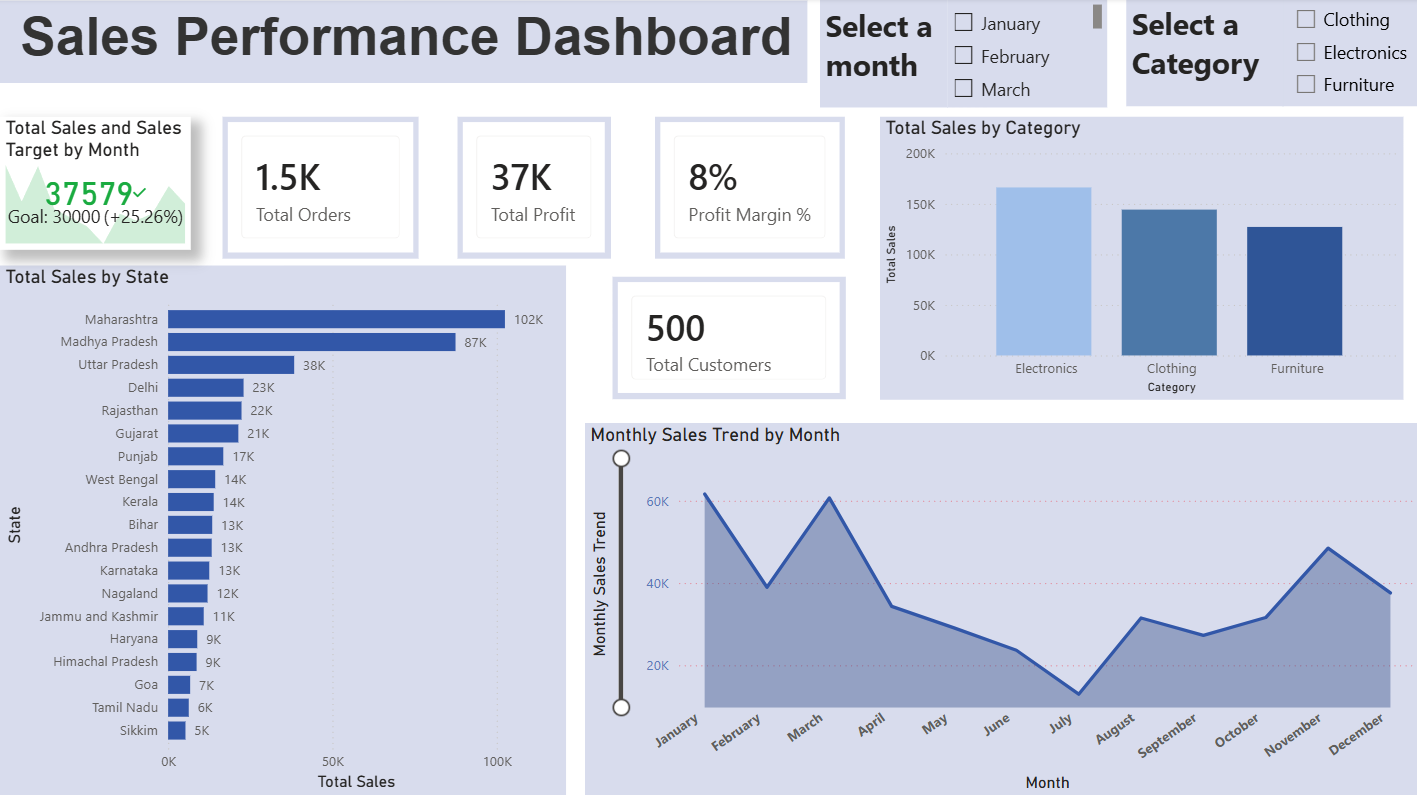

This screenshot's page, from the dashboard's own definition file:
{"tool":"powerbi","page":{"name":"Report","canvas":[1280,720],"ordinal":0},"visuals":[{"type":"barChart","fields":{"Y":["Orders.Total Sales"],"Category":["Orders.State"]},"box":[0,241.5,510.5,478.9],"z":0},{"type":"lineChart","fields":{"Category":["Orders.Order Date.Variation.Date Hierarchy.Month"],"Y":["Orders.Total Sales"]},"box":[526.9,382.8,753.3,337.6],"z":1000},{"type":"slicer","fields":{"Values":["Details.Category"]},"box":[1156.8,0,123.5,97.4],"z":2000},{"type":"textbox","box":[0,2,728,74],"z":3000},{"type":"textbox","box":[1015.4,0,141.3,97.4],"z":4000},{"type":"columnChart","fields":{"Category":["Details.Category"],"Y":["Orders.Total Sales"]},"box":[793.1,107,472,255.2],"z":5000},{"type":"kpi","fields":{"Indicator":["Orders.Total Sales"],"TrendLine":["Orders.Order Date.Variation.Date Hierarchy.Month"],"Goal":["Details.Sales Target"]},"box":[0,107,172.1,119.8],"z":6000},{"type":"cardVisual","fields":{"Data":["Sum(Details.Profit)"]},"box":[413,107,138.6,127.6],"z":7000},{"type":"cardVisual","fields":{"Data":["CountNonNull(Details.Order ID)"]},"box":[200.3,107,177,127.6],"z":8000},{"type":"cardVisual","fields":{"Data":["Details.Profit Margin %"]},"box":[590.1,107,171.5,127.6],"z":9000},{"type":"listSlicer","fields":{"Values":["Orders.Order Date.Variation.Date Hierarchy.Month"]},"box":[854.9,1.4,144.1,97.4],"z":10000},{"type":"textbox","box":[739.6,1.4,115.3,97.4],"z":11000},{"type":"cardVisual","fields":{"Data":["Count(Details.Order ID)"]},"box":[552.2,251.8,210,110.7],"z":12000}]}

Visuals, with their boxes in screenshot pixels (x1, y1, x2, y2), scaled from the page's 1280x720 canvas onto the 1417x795 screenshot:
barChart - Orders.Total Sales x Orders.State: [0,267,565,794]
lineChart - Orders.Order Date.Variation.Date Hierarchy.Month x Orders.Total Sales: [583,423,1416,794]
slicer - Details.Category: [1281,0,1416,108]
textbox: [0,2,806,84]
textbox: [1124,0,1281,108]
columnChart - Details.Category x Orders.Total Sales: [878,118,1401,400]
kpi - Orders.Total Sales x Orders.Order Date.Variation.Date Hierarchy.Month: [0,118,191,250]
cardVisual - Sum(Details.Profit): [457,118,611,259]
cardVisual - CountNonNull(Details.Order ID): [222,118,418,259]
cardVisual - Details.Profit Margin %: [653,118,843,259]
listSlicer - Orders.Order Date.Variation.Date Hierarchy.Month: [946,2,1106,109]
textbox: [819,2,946,109]
cardVisual - Count(Details.Order ID): [611,278,844,400]
